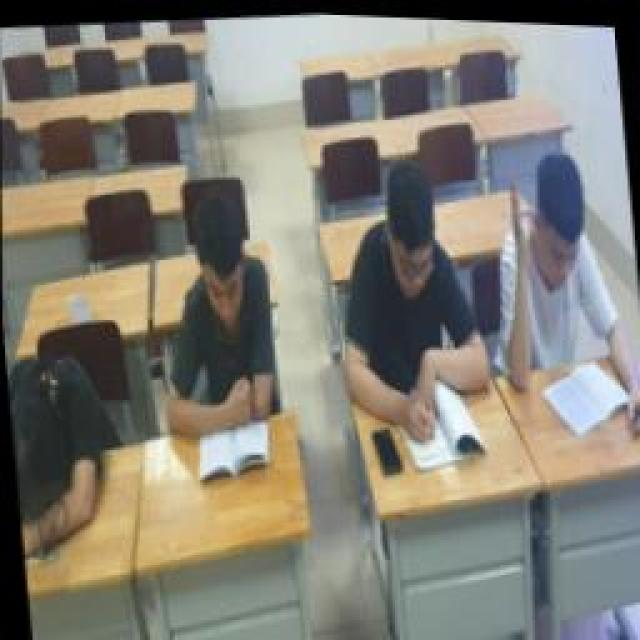sleep: (3, 337, 135, 555)
study: (318, 148, 490, 432), (132, 168, 288, 442), (490, 130, 640, 405)
